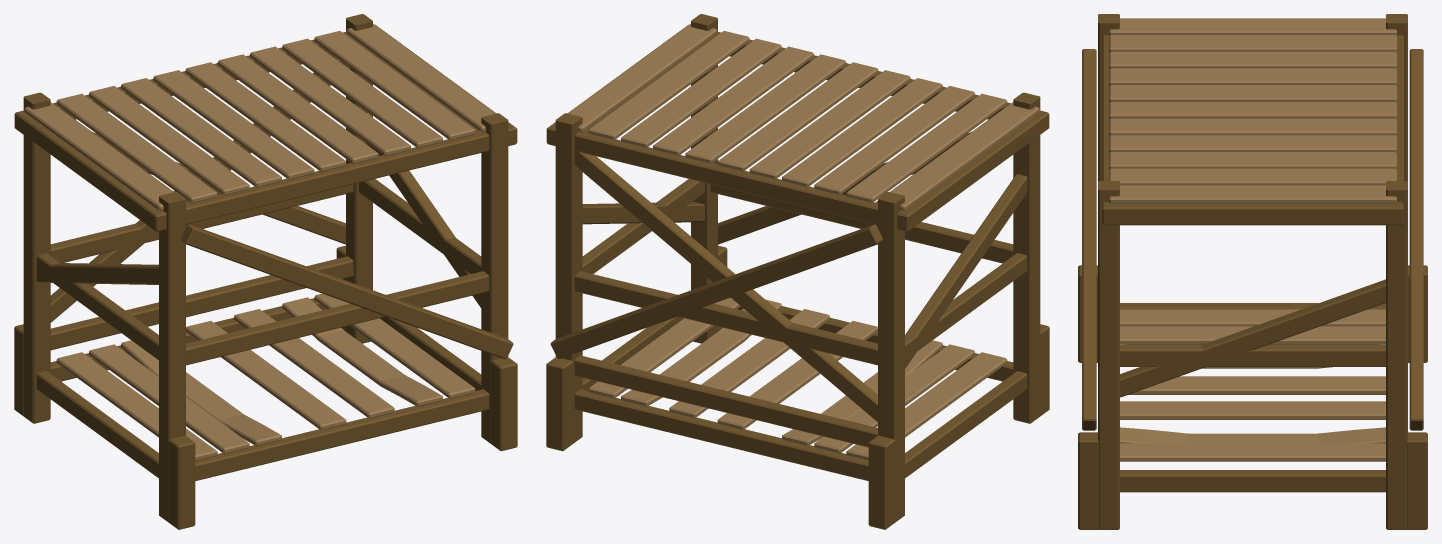
The model's file is Scaffolding_Large.fbx.
The picture shows the model from 3 angles, left to right: view 1: azimuth 30°, elevation 25°; view 2: azimuth 150°, elevation 25°; view 3: azimuth 270°, elevation 25°; orthographic projection. The views are drawn at different scales.
Parts seen in each view (by area): view 1: pCube226; view 2: pCube226; view 3: pCube226.
Boxes of the visible parts, bbox=[...] form: pCube226: bbox=[14, 14, 517, 529]; pCube226: bbox=[546, 14, 1049, 529]; pCube226: bbox=[1078, 14, 1427, 529].
Size of the model in its own units: 225 by 190 by 177.
